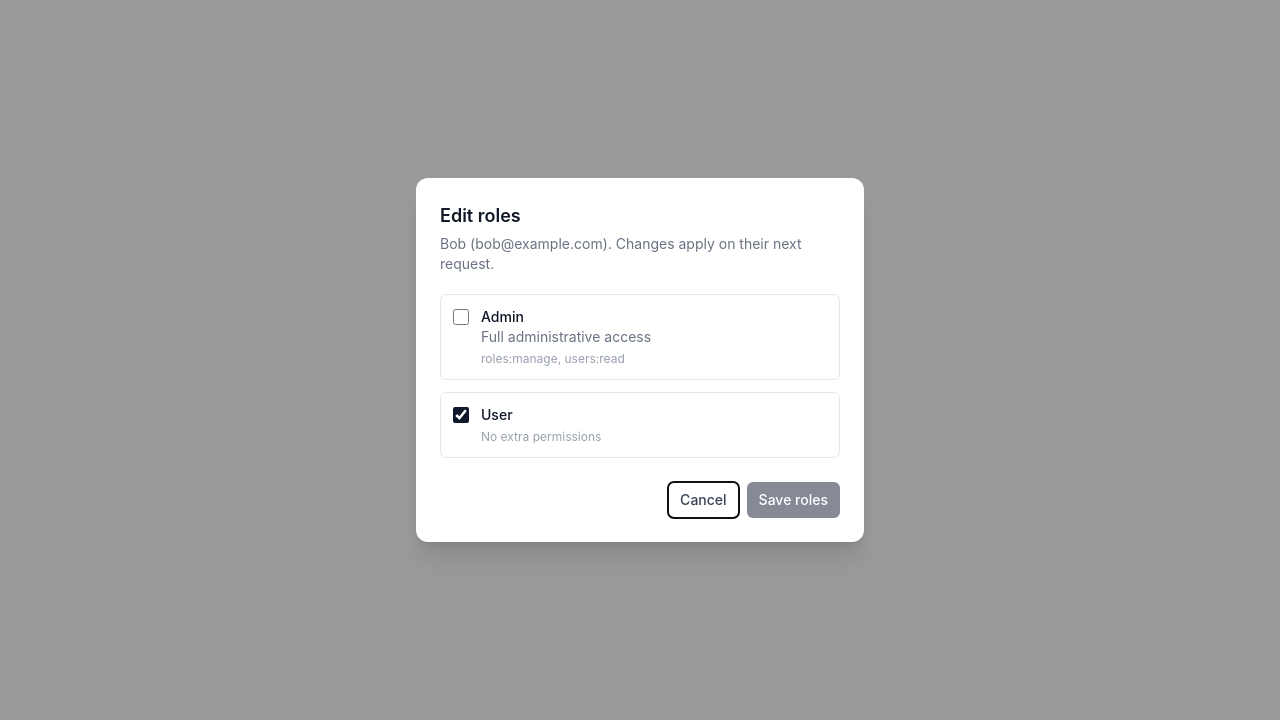
Test case: EditRolesDialog › shows the server's refusal and stays open
Click the checkbox labelled "admin Full administrative access roles:manage, users:read" at (461, 317), box top-left (453, 309), bottom-right (469, 325)
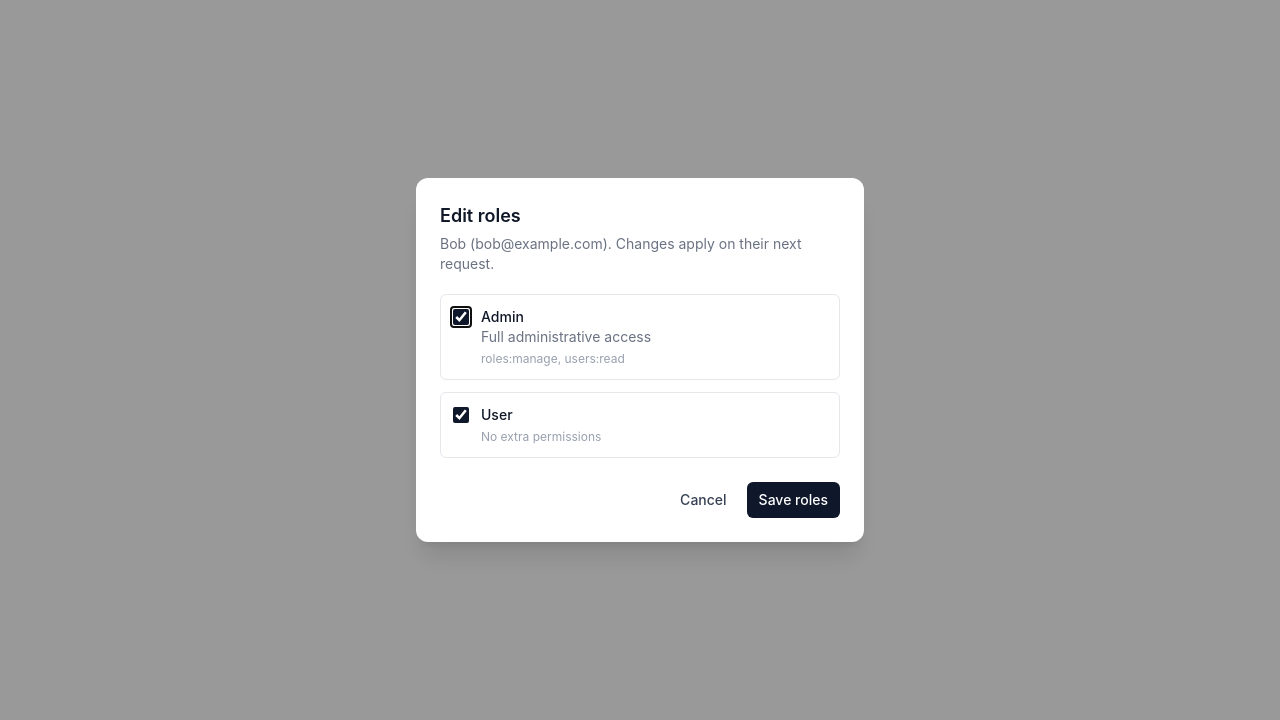
Click the button "Save roles" at (793, 500), box top-left (747, 482), bottom-right (840, 518)
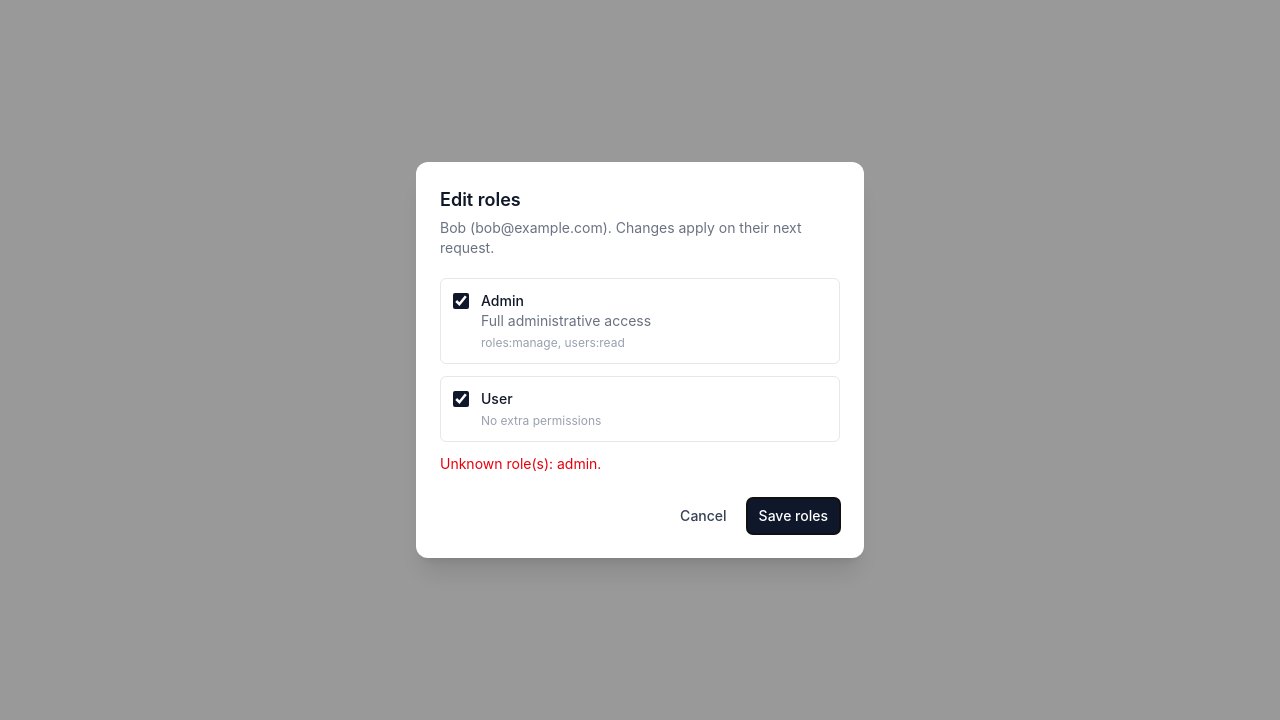
Expected: the message reads "Unknown role(s): admin.", top-left (440, 455), bottom-right (601, 472)
